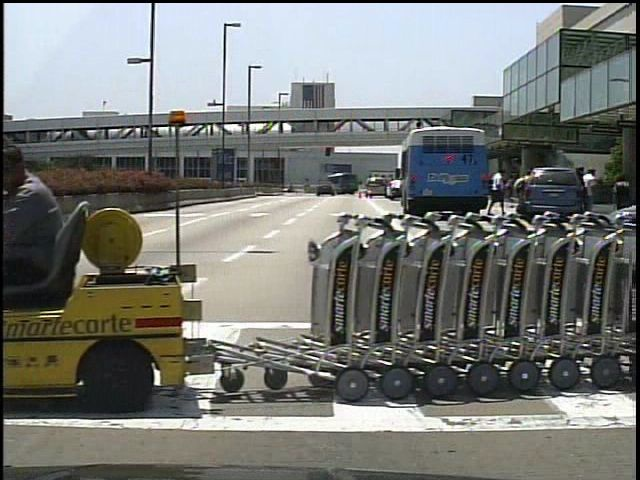person: (0, 139, 70, 298), (511, 167, 532, 218), (580, 165, 601, 214), (490, 166, 510, 217)
